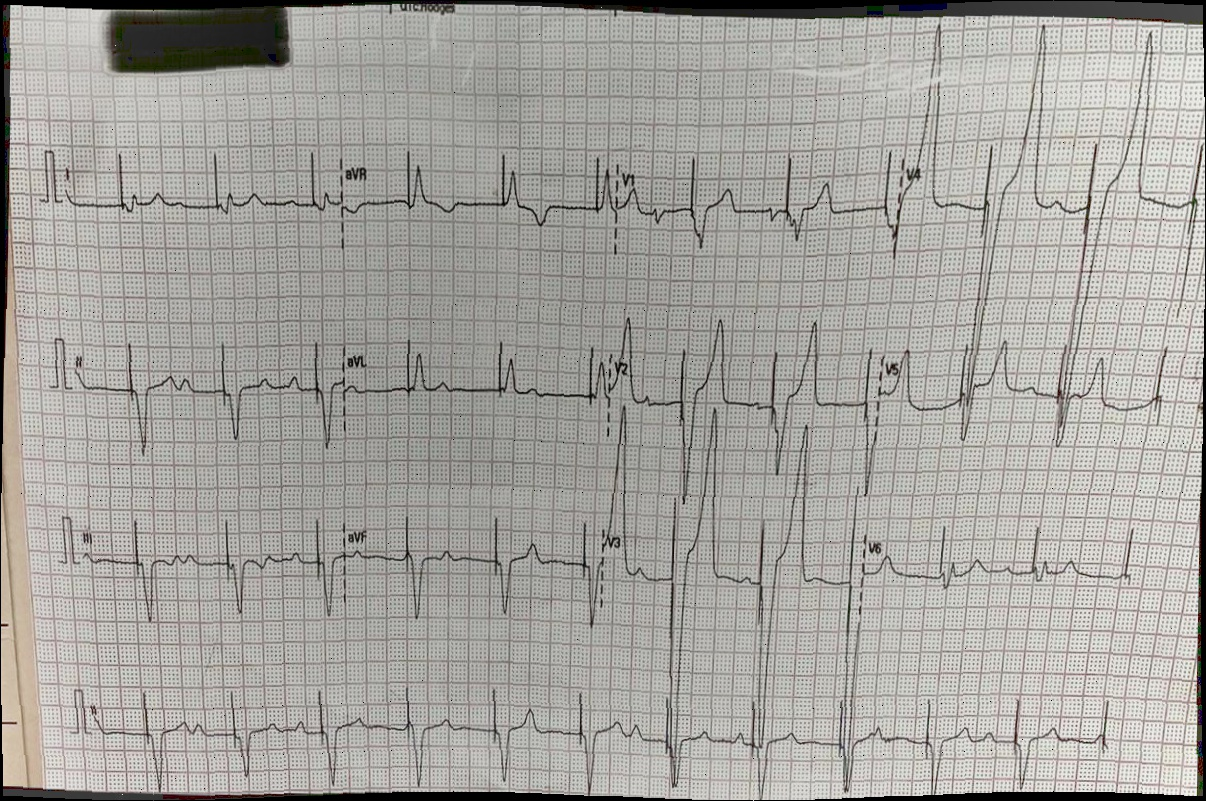Lead_I: (53, 127, 339, 246)
Lead_II: (61, 325, 347, 469)
Lead_III: (68, 501, 346, 640)
Lead_II_ext: (84, 672, 1119, 801)
Lead_V1: (615, 127, 900, 250)
Lead_V2: (607, 300, 888, 516)
Lead_V3: (598, 390, 870, 801)
Lead_V4: (895, 11, 1206, 436)
Lead_V5: (885, 310, 1181, 472)
Lead_V6: (865, 517, 1150, 609)
Lead_aVF: (338, 504, 608, 642)
Lead_aVL: (339, 320, 611, 436)
Lead_aVR: (338, 129, 616, 257)
